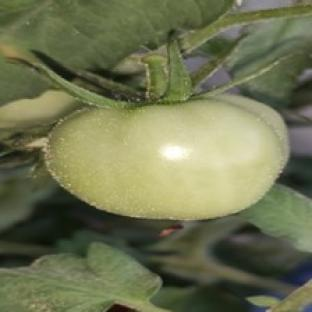Tomato: (46, 95, 288, 220), (0, 91, 80, 132)
